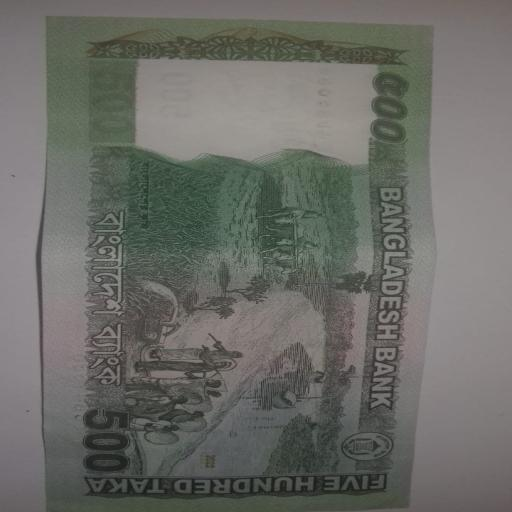500taka: (39, 17, 435, 512)
